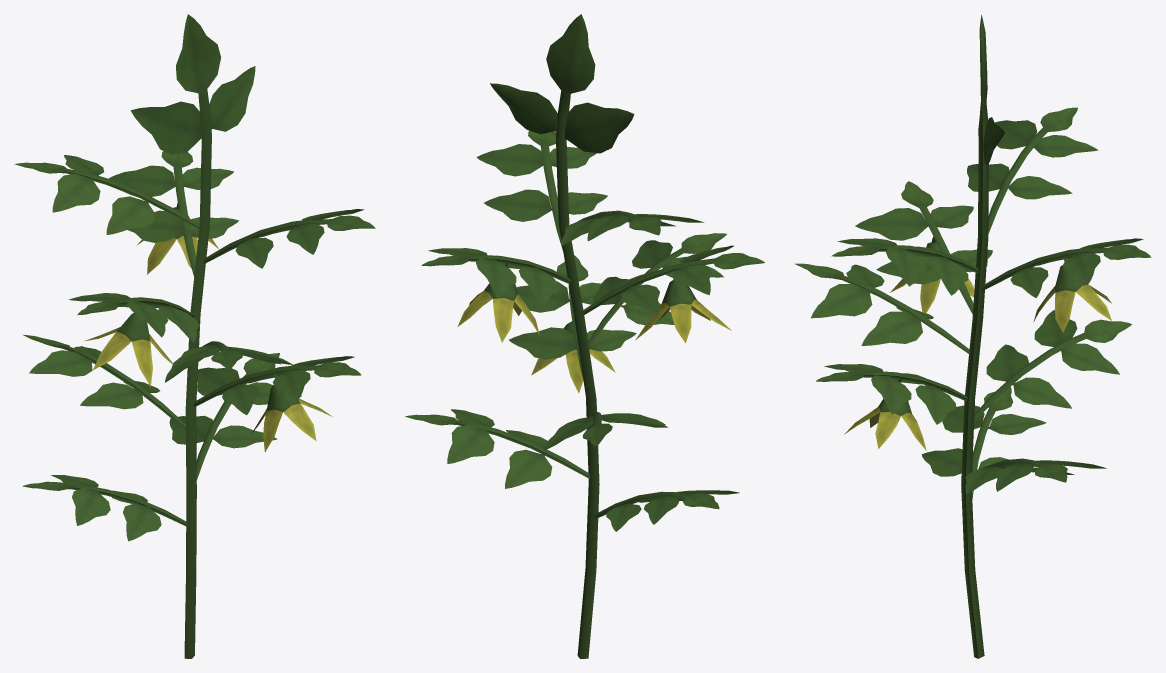
Rendered from Crop_Tomatoes_Stage_04.fbx.
3 renders of one model, left to right at view 1: azimuth 30°, elevation 25°; view 2: azimuth 150°, elevation 25°; view 3: azimuth 270°, elevation 25°, orthographic.
Parts seen in each view (by area): view 1: Tomatoes_Stage_04; view 2: Tomatoes_Stage_04; view 3: Tomatoes_Stage_04.
Part boxes in pixels (left/top/right/bottom): Tomatoes_Stage_04: left=14, top=14, right=375, bottom=658; Tomatoes_Stage_04: left=405, top=14, right=764, bottom=658; Tomatoes_Stage_04: left=795, top=15, right=1151, bottom=658.
Bounding box in the file's own units: 40.93 × 85.8 × 43.22.
